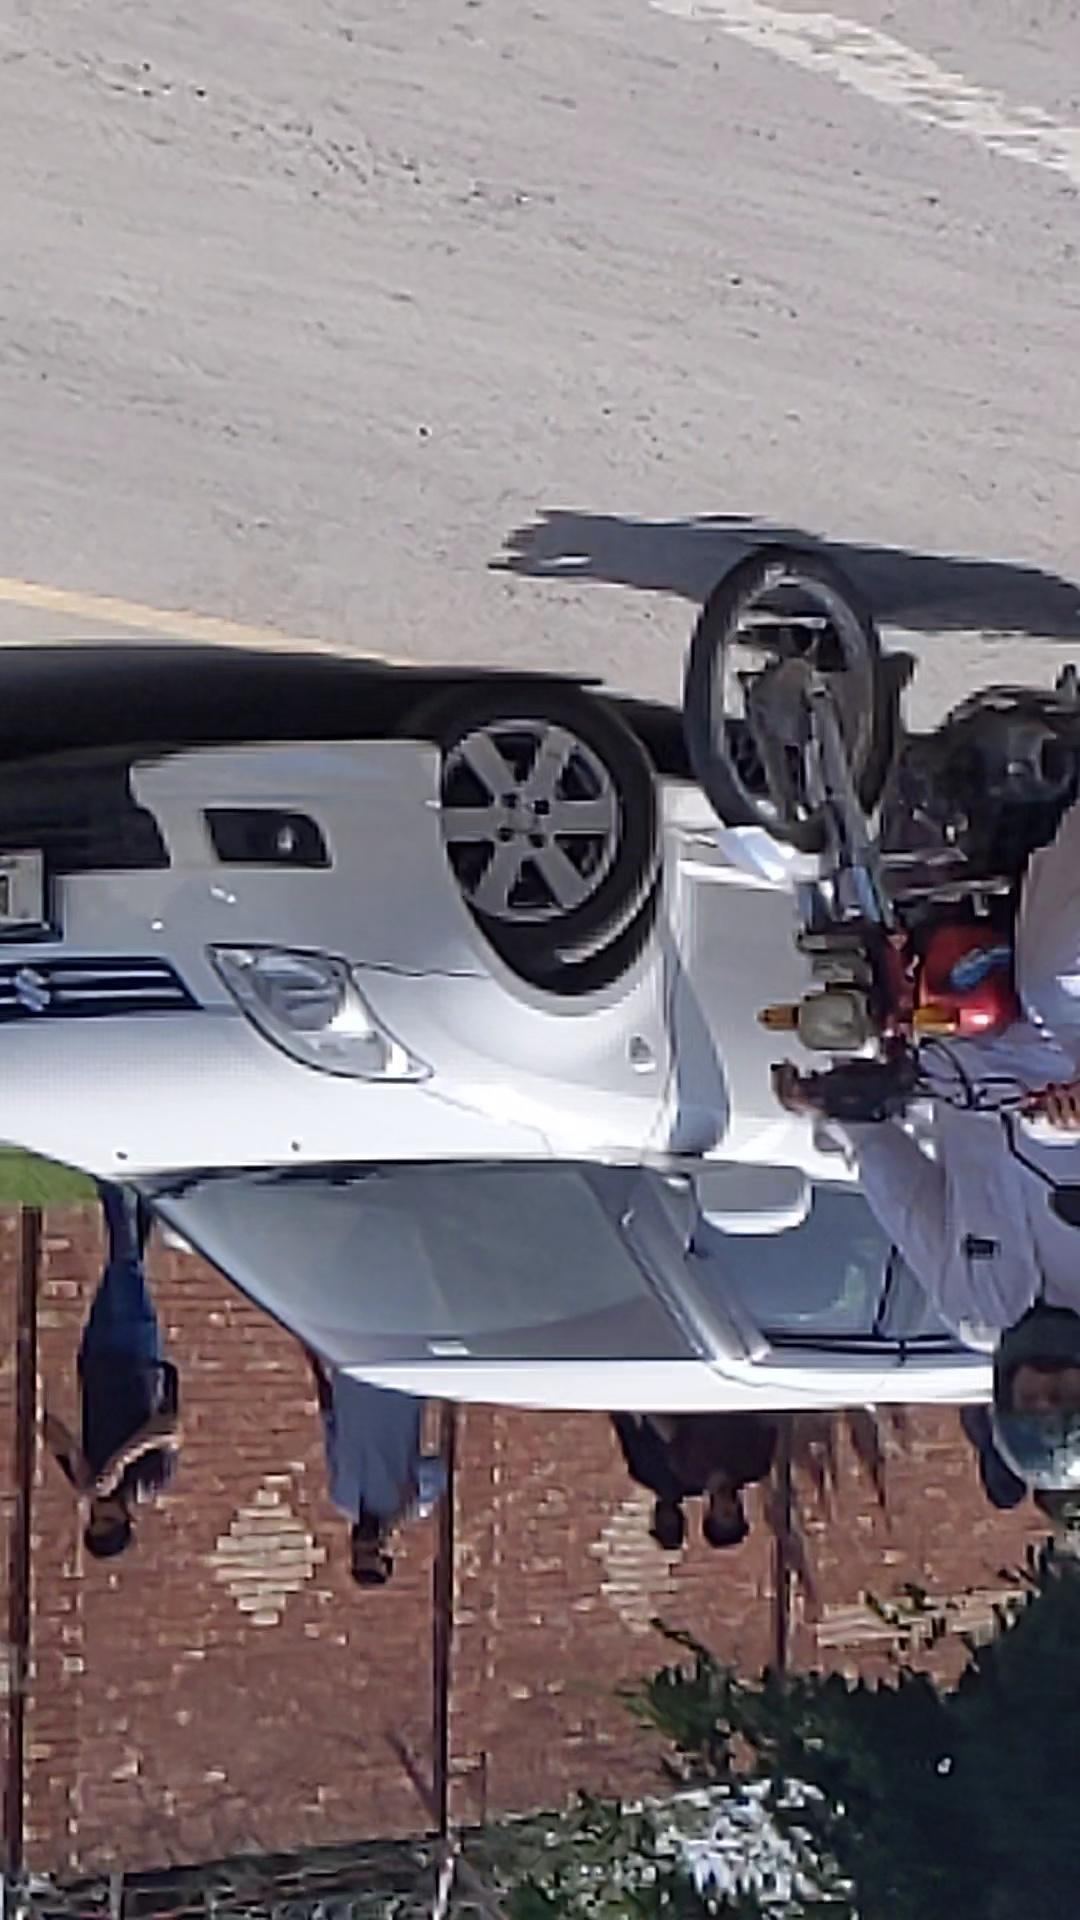windshield: (352, 541, 965, 781)
